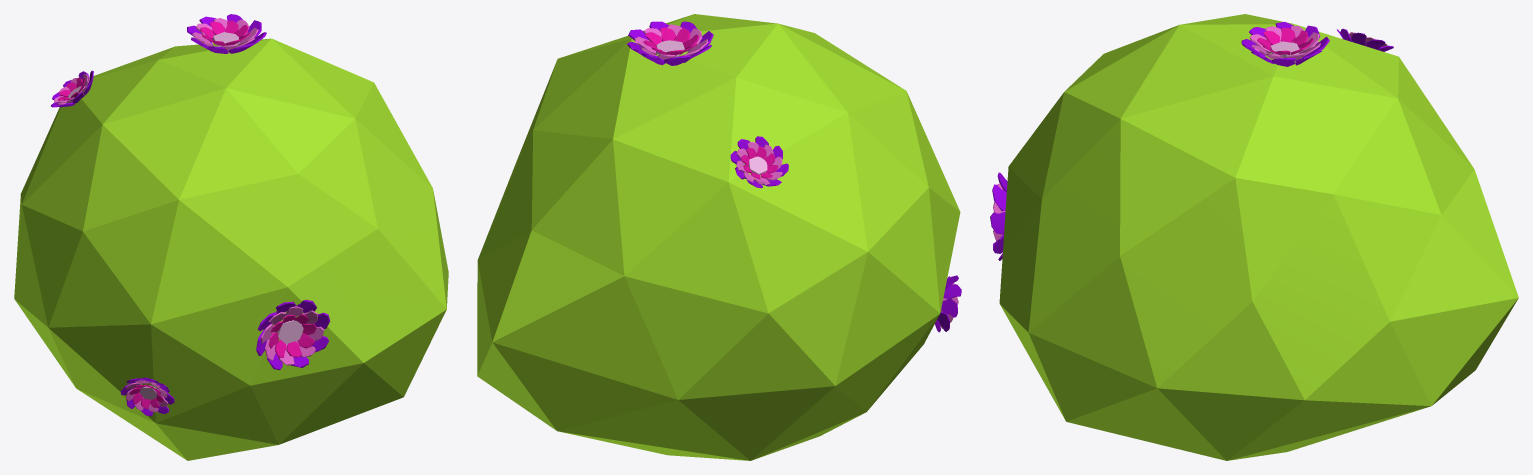
File: zbunpark2.fbx
3 views of the same model, side by side, from view 1: azimuth 30°, elevation 25°; view 2: azimuth 150°, elevation 25°; view 3: azimuth 270°, elevation 25° (orthographic). The views are drawn at different scales.
Parts seen in each view (by area): view 1: zbun park2; view 2: zbun park2; view 3: zbun park2.
Part boxes in pixels (<box>): zbun park2: <box>14,14,448,460</box>; zbun park2: <box>477,14,961,460</box>; zbun park2: <box>990,14,1518,460</box>.
Size of the model in its own units: 121 by 116 by 135.
